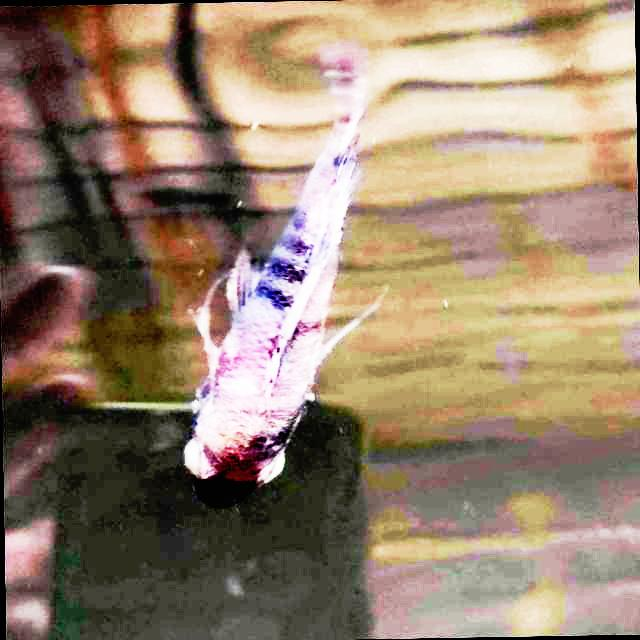Columnaris Disease: (184, 56, 375, 503)
